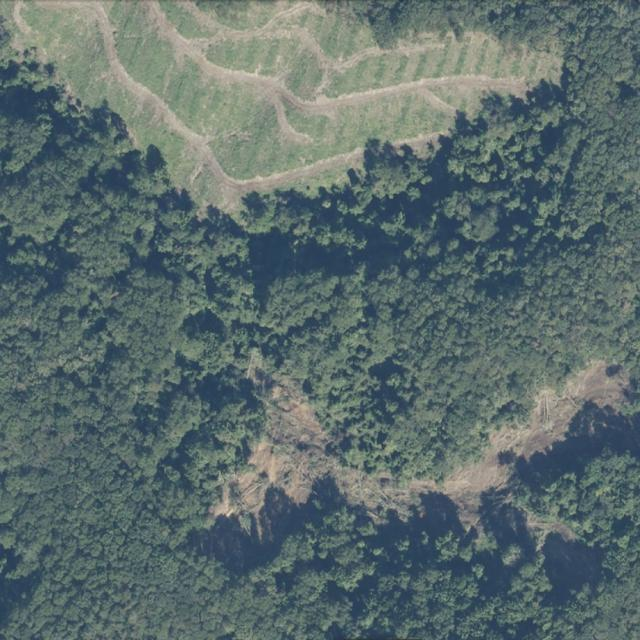landslide: (266, 362, 632, 527)
